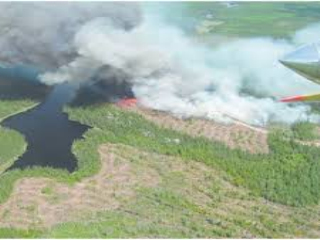fire: (117, 95, 138, 109)
smoke: (2, 3, 290, 122)
